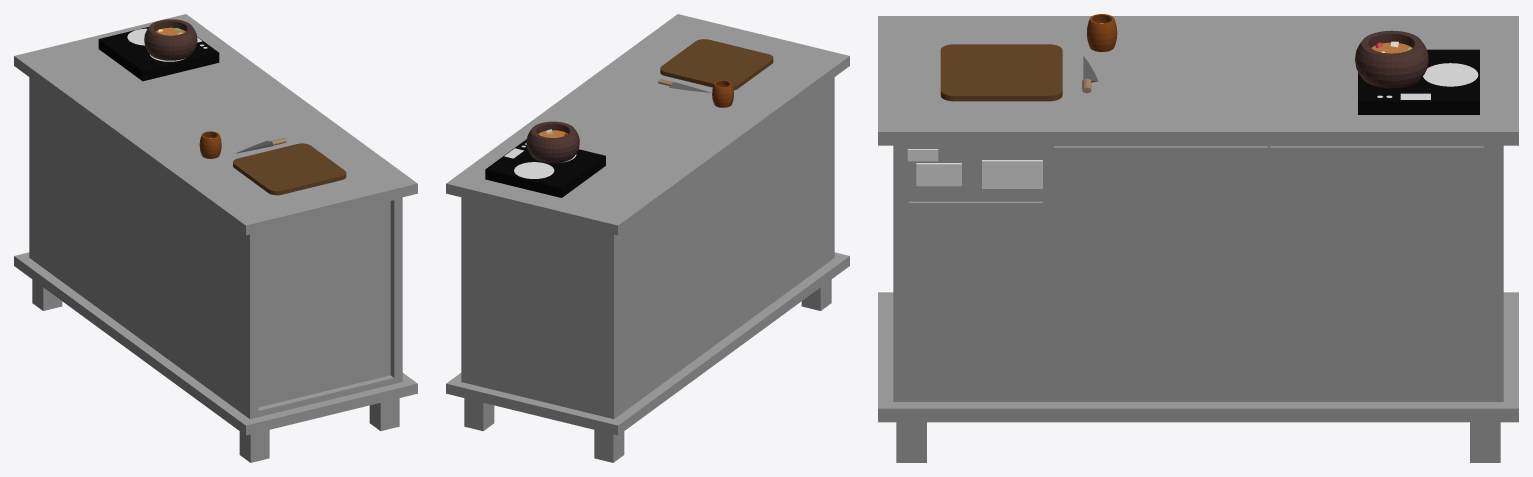
The model's file is KoreanCuisinePreparationTable.glb.
3 renders of one model, left to right at view 1: azimuth 30°, elevation 25°; view 2: azimuth 150°, elevation 25°; view 3: azimuth 270°, elevation 25°, orthographic. The views are drawn at different scales.
Visible parts, largest first — view 1: Cylinder; view 2: Cylinder; view 3: Cylinder.
Part boxes in pixels (x1,y1,x2,y2): Cylinder: (14,14,417,462); Cylinder: (446,14,849,462); Cylinder: (878,14,1518,462).
Bounding box in the file's own units: 9 × 13.95 × 21.
